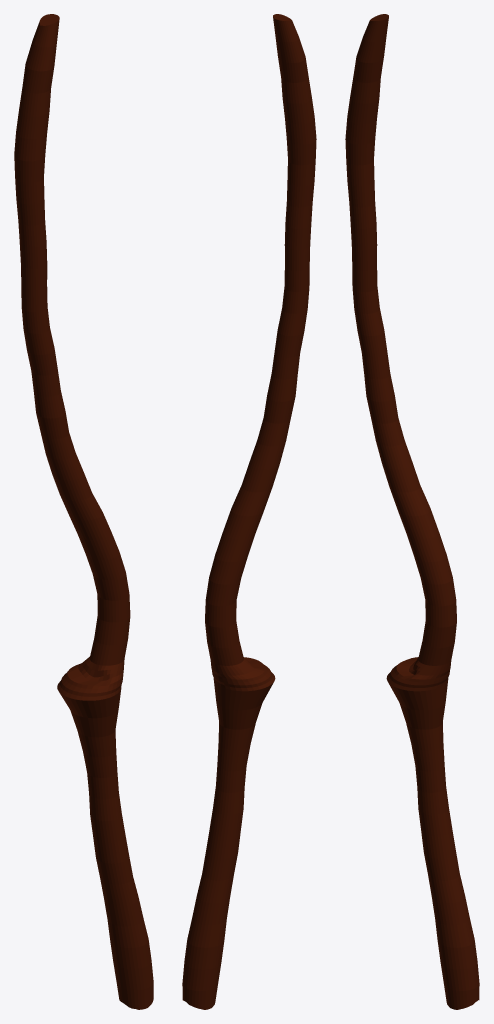
The model's file is Stok.fbx.
3 views of the same model, side by side, from view 1: azimuth 30°, elevation 25°; view 2: azimuth 210°, elevation 25°; view 3: azimuth 330°, elevation 25° (orthographic). The views are drawn at different scales.
Visible parts, largest first — view 1: Cylinder; view 2: Cylinder; view 3: Cylinder.
Part boxes in pixels (<box>): Cylinder: <box>14,14,153,1009</box>; Cylinder: <box>182,14,316,1009</box>; Cylinder: <box>345,14,479,1009</box>.
Bounding box in the file's own units: 39.23 × 279 × 16.17.
